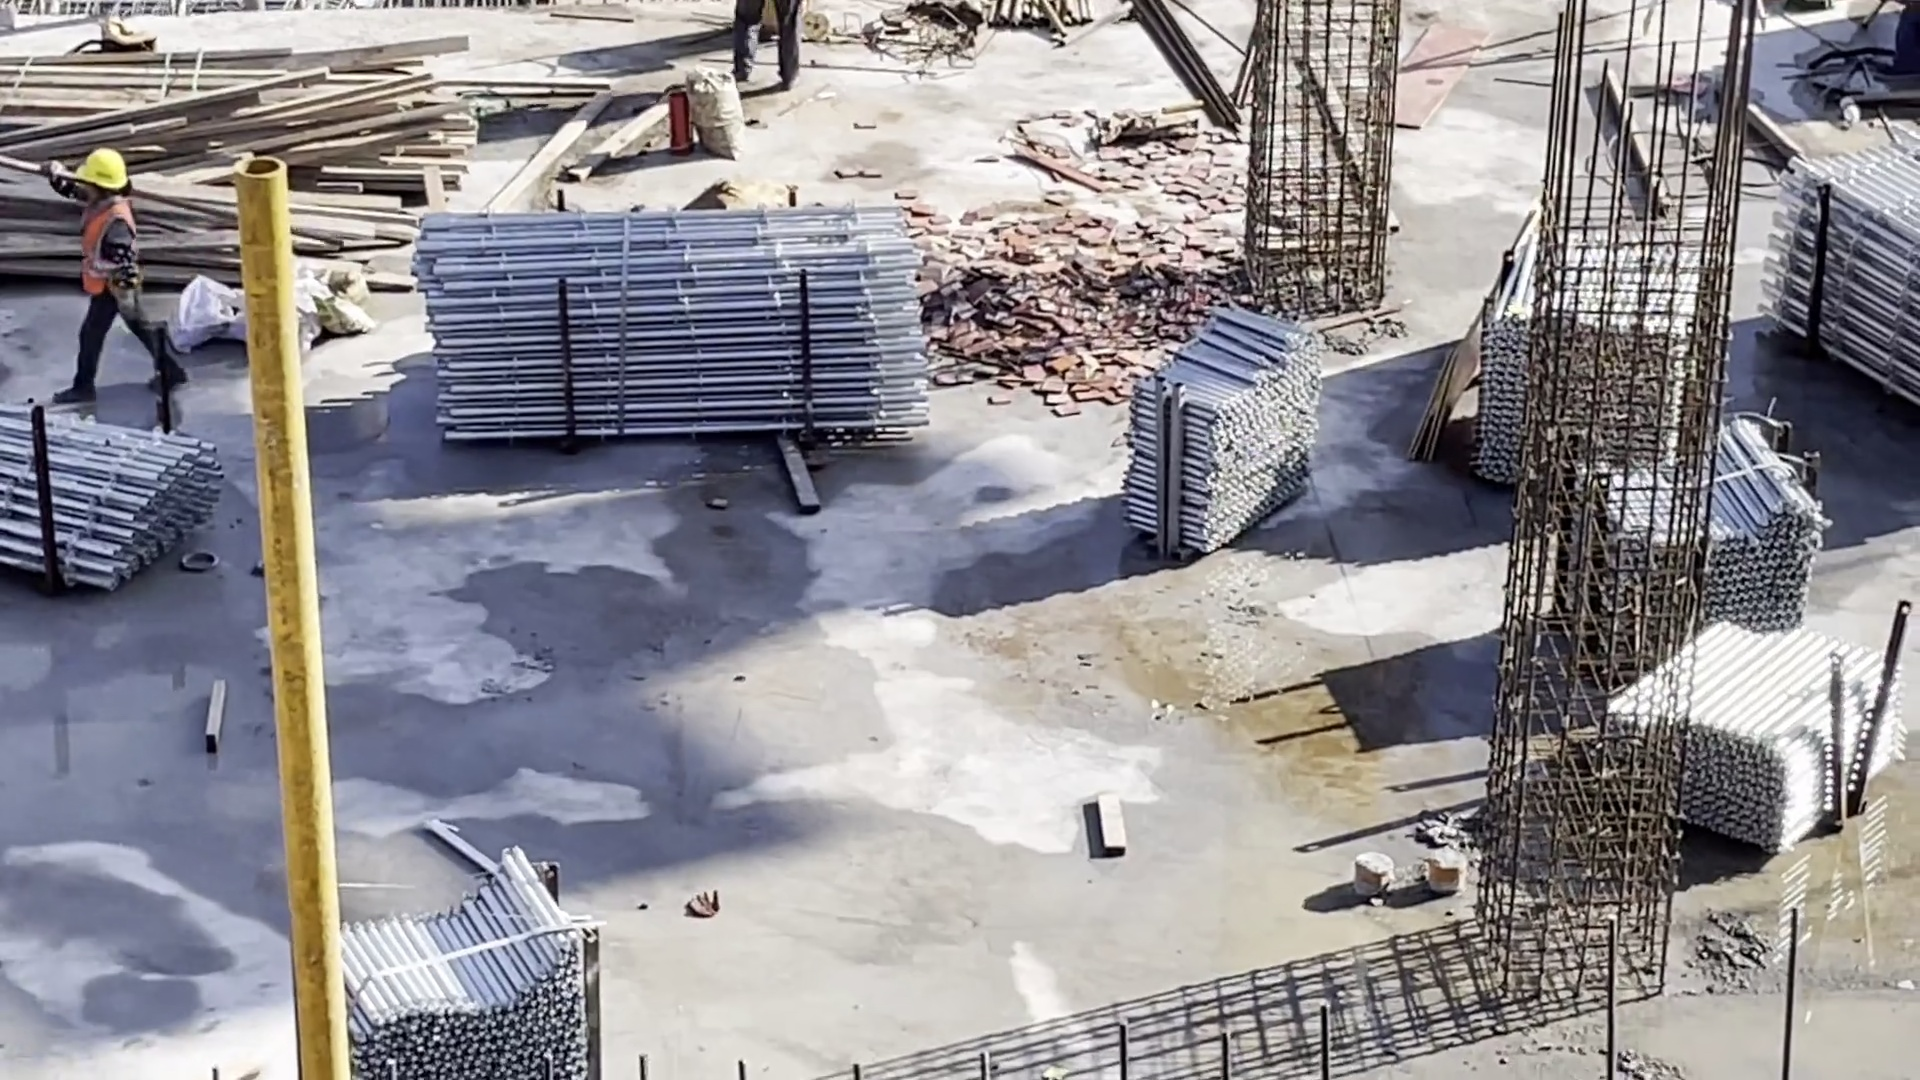helmet: (71, 151, 126, 189)
person: (43, 149, 185, 402), (735, 1, 804, 91)
scaffold: (412, 188, 936, 463), (1617, 619, 1918, 868), (328, 840, 604, 1080), (1493, 214, 1720, 497), (1591, 425, 1836, 642), (1114, 301, 1320, 556), (1, 410, 229, 605), (1771, 132, 1920, 424)
vest: (70, 204, 134, 297)
wood: (2, 55, 492, 264)
